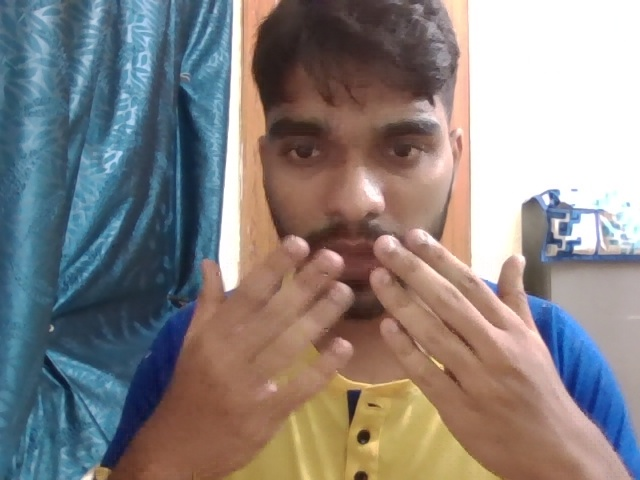Thank You: (165, 217, 561, 478)
